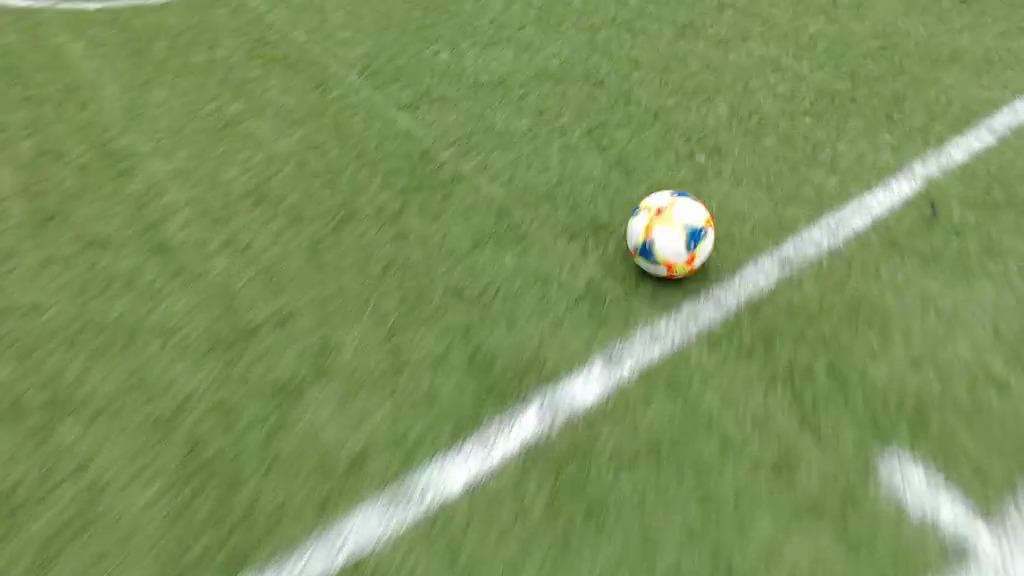ball: (625, 189, 718, 280)
